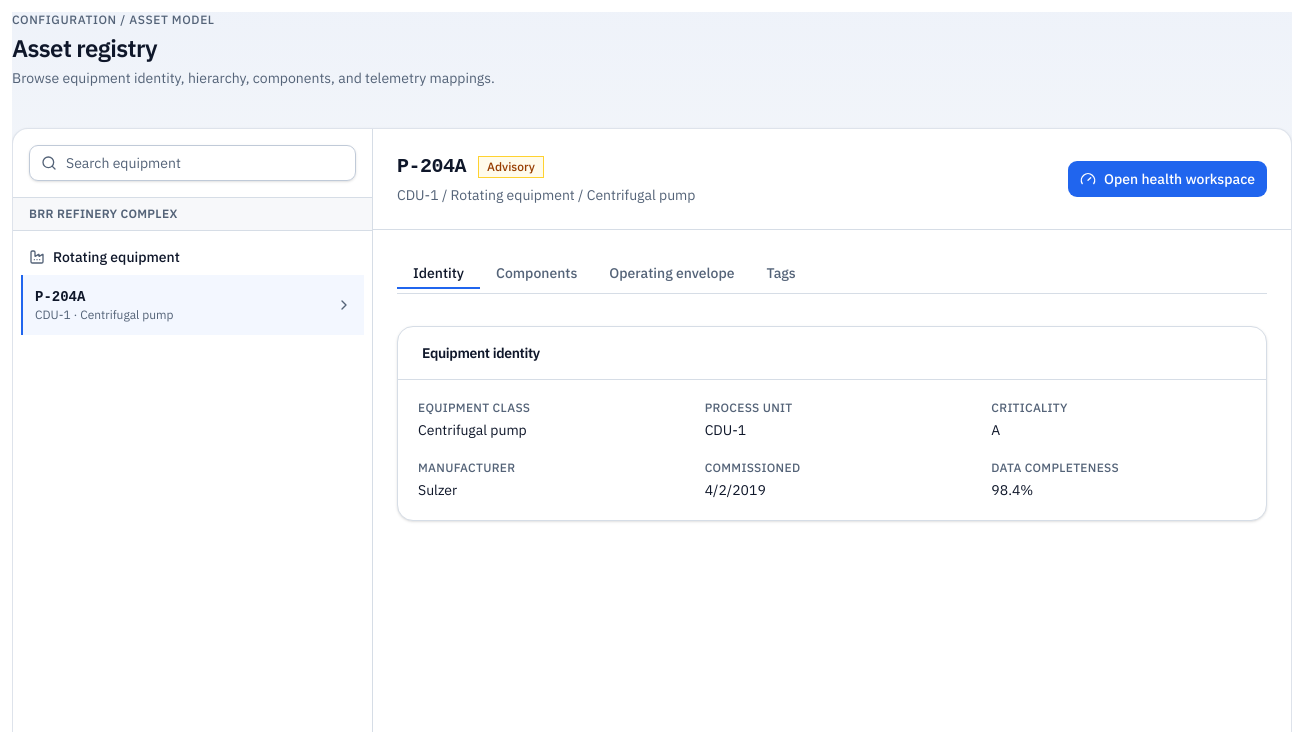
Test: workspace branch coverage › filters the asset registry and switches its tabs
Step 1. Type "cdu" into the field with placeholder "Search equipment" → [192, 163], box [29,145,356,181]
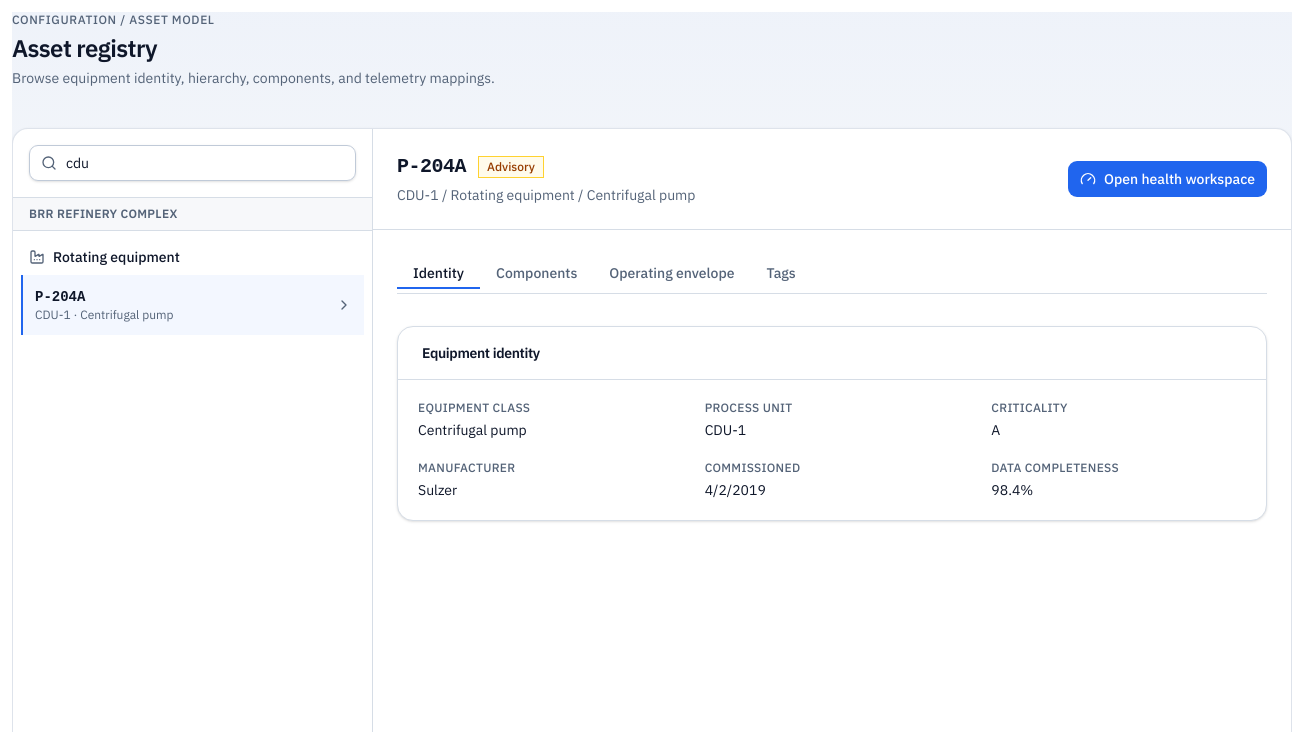
Step 2. Replace the text in the field with placeholder "Search equipment" with "nothing" → [192, 163], box [29,145,356,181]
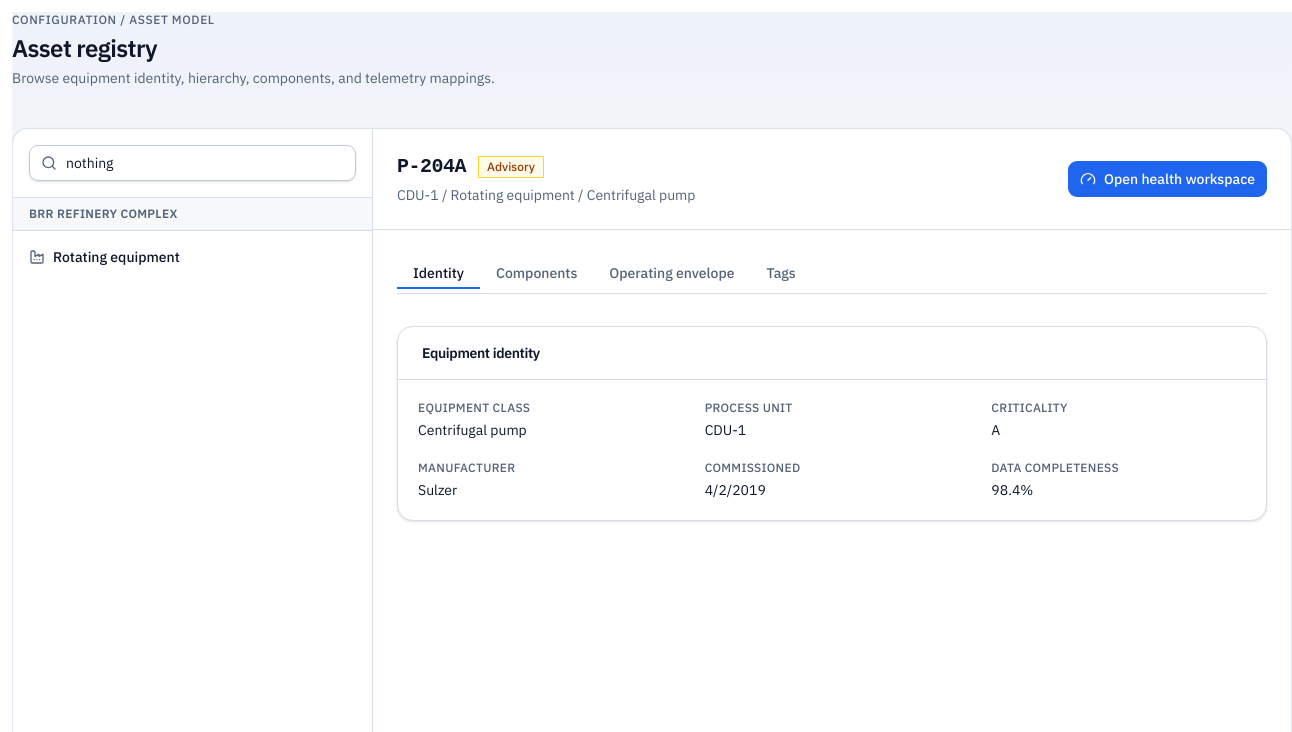
Note: Radix activates a tab on mousedown, not click.
Step 3. Press the mouse on the tab "Components" → [537, 274], box [480,258,593,288]
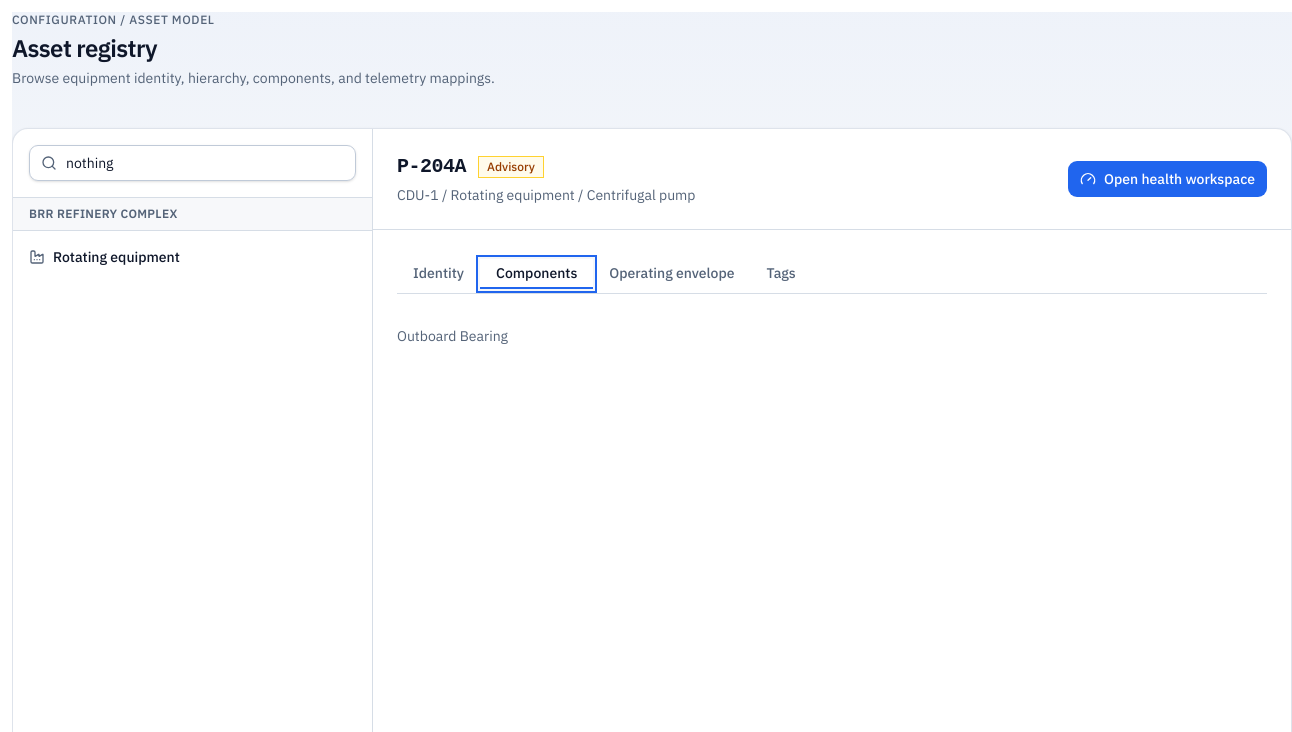
expect the text "Outboard Bearing" is shown: met, box [397,327,508,345]
Step 4. Press the mouse on the tab "Operating envelope" → [672, 274], box [593,258,750,288]
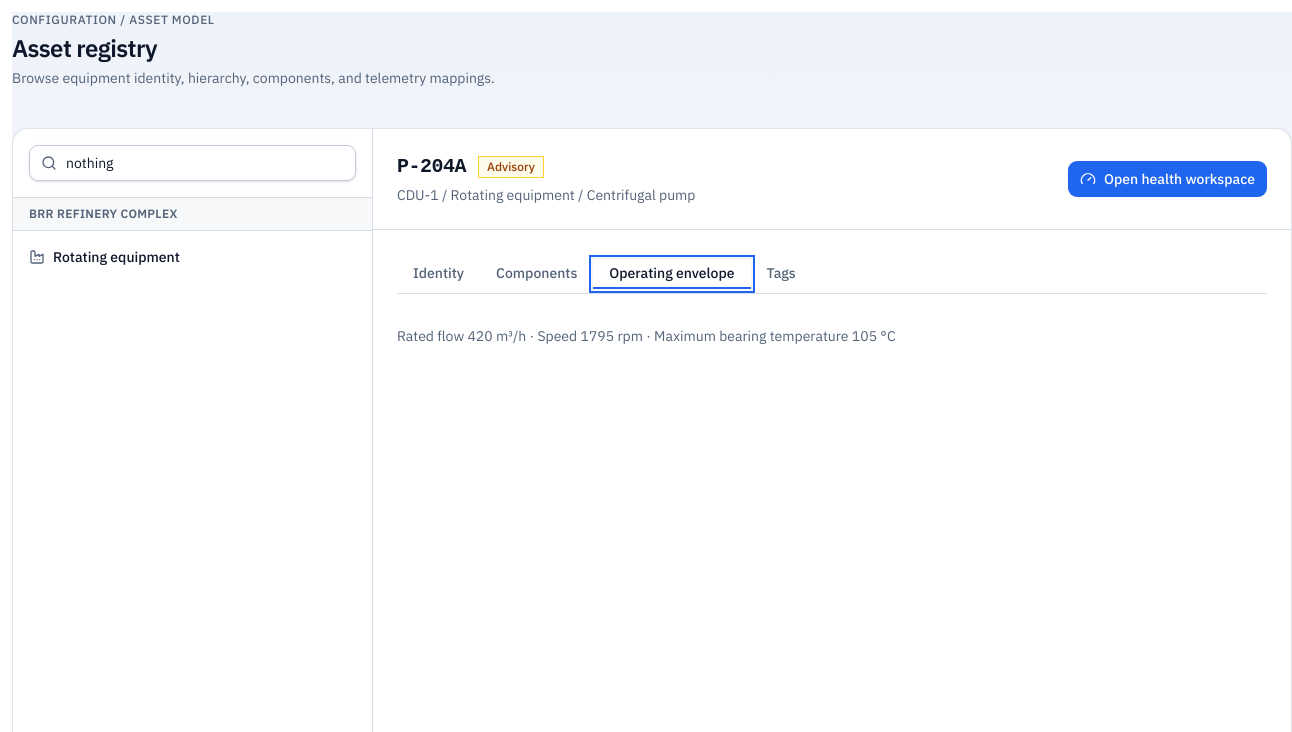
expect the text "Rated flow" is shown: met, box [397,327,467,345]
Step 5. Press the mouse on the tab "Tags" → [781, 274], box [750,258,812,288]
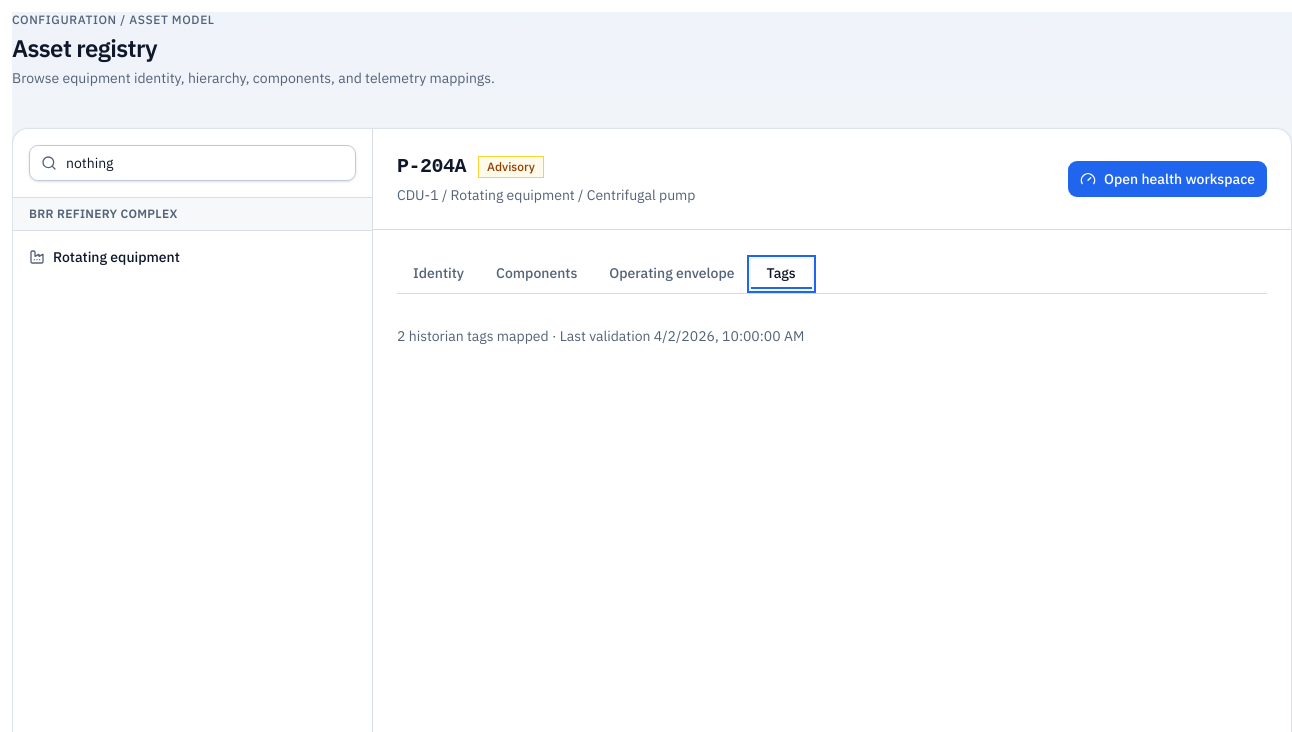
expect the text "historian tags mapped" is shown: met, box [405,327,654,345]
